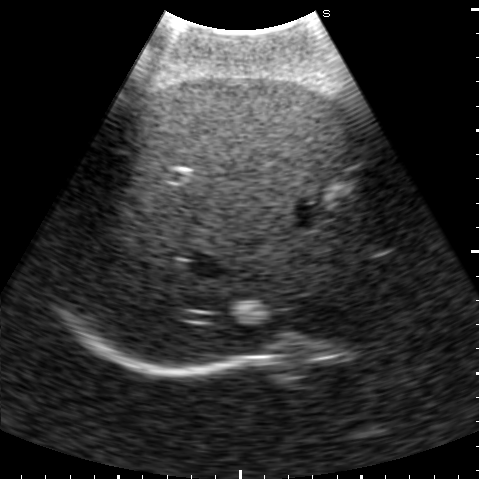S5: (137, 76, 369, 184)
S7: (57, 150, 181, 321)
S8: (125, 164, 400, 368)
Tumor: (323, 181, 355, 208), (231, 300, 267, 324)
